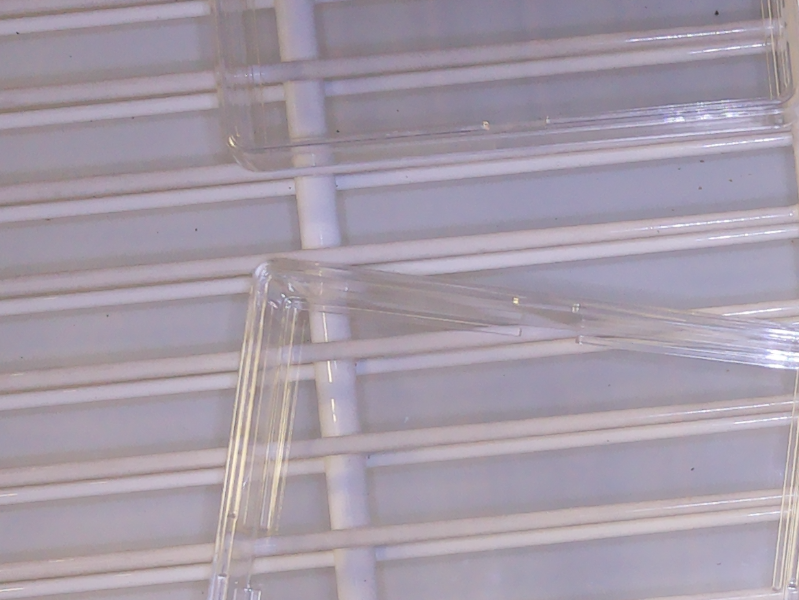plate: (207, 255, 799, 600), (209, 1, 799, 171)
